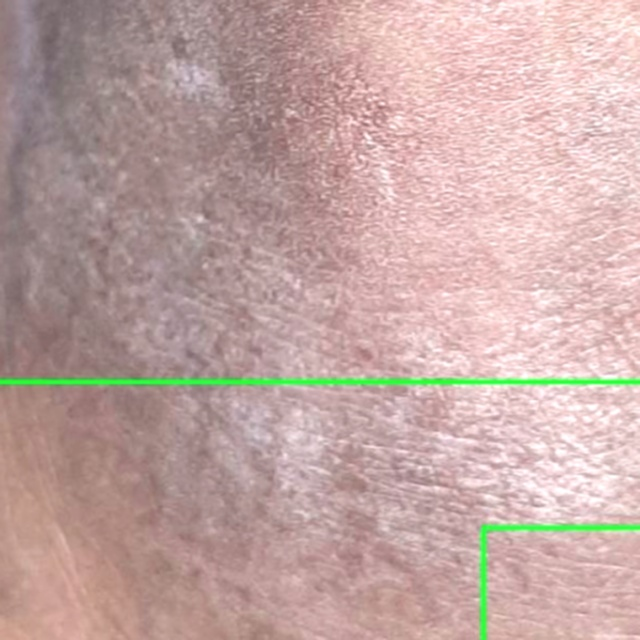Contact Dermatitis: (0, 383, 639, 639), (483, 527, 639, 639)
